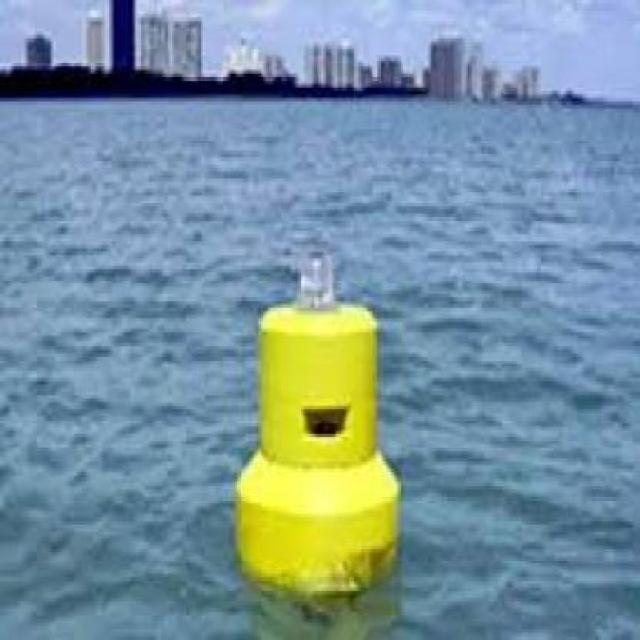buoy: (224, 232, 409, 603)
